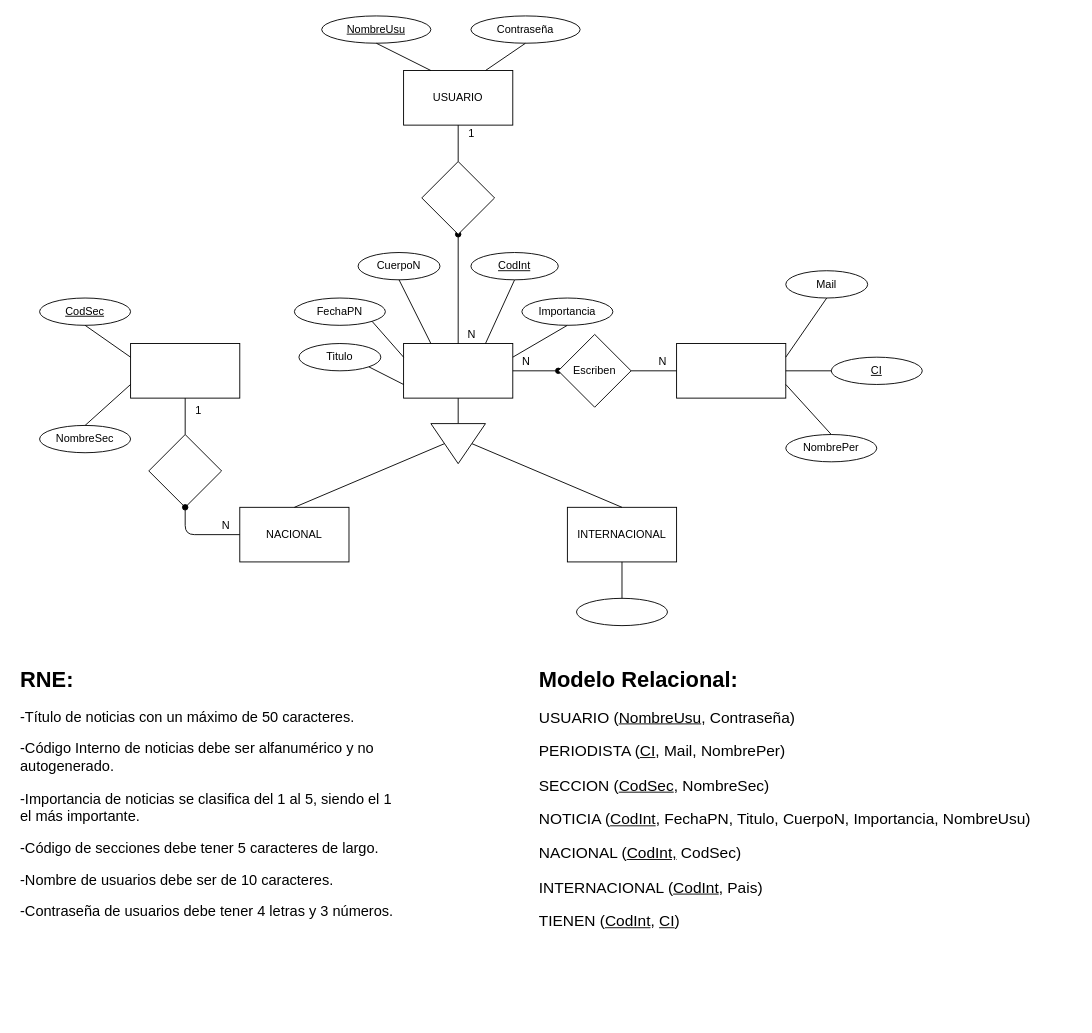
Image size: 1092x1033. Some labels were removed from this diagram. The centre of each missing label's shape, as x and y in pixels:
Acceso a: (x=458, y=197)
Incluye: (x=185, y=470)
NOTICIA: (x=458, y=370)
Pais: (x=621, y=611)
PERIODISTA: (x=731, y=370)
SECCION: (x=185, y=370)
